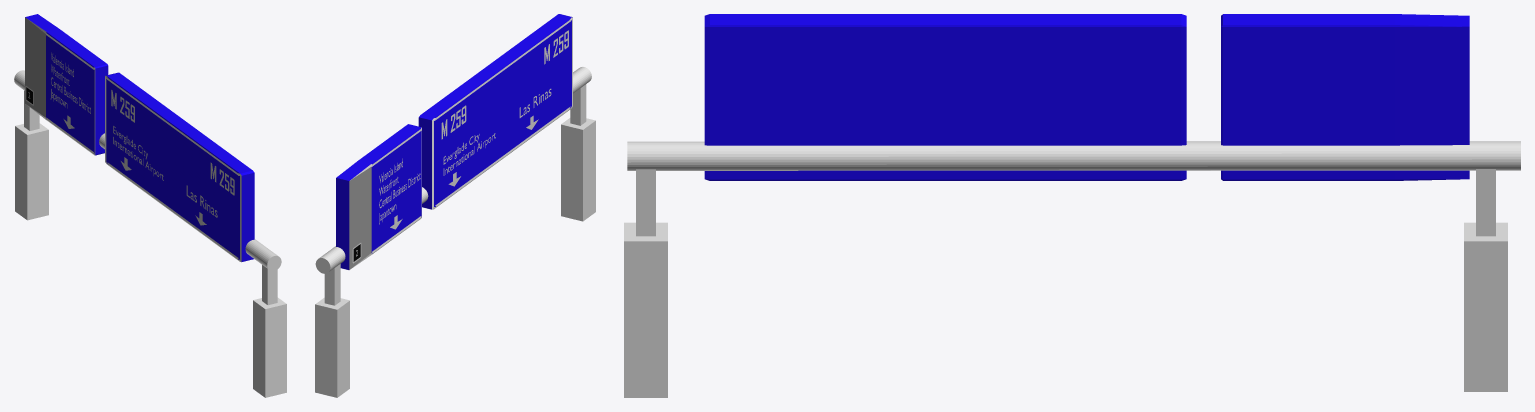
Rendered from UK_Motorway_gantry_3.fbx.
3 renders of one model, left to right at view 1: azimuth 30°, elevation 25°; view 2: azimuth 150°, elevation 25°; view 3: azimuth 270°, elevation 25°, orthographic. The views are drawn at different scales.
Visible parts, largest first — view 1: Cube.003, Cube.001, Cube.002, Cube, Cylinder, Text.001, Text.002, Text.005, Text.004; view 2: Cube.003, Cube.001, Cube.002, Cube, Cylinder, Text.001, Text.002, Text.004, Text.005; view 3: Cube.003, Cube.001, Cylinder, Cube.002, Cube.
Boxes of the visible parts, bbox=[...] form: Cube.003: bbox=[105, 72, 254, 262]; Cube.001: bbox=[25, 14, 108, 155]; Cube.002: bbox=[253, 265, 286, 397]; Cube: bbox=[15, 90, 48, 220]; Cylinder: bbox=[14, 70, 281, 270]; Text.001: bbox=[50, 52, 90, 113]; Text.002: bbox=[113, 126, 163, 180]; Text.005: bbox=[210, 162, 234, 195]; Text.004: bbox=[111, 90, 134, 122]; Cube.003: bbox=[418, 14, 572, 209]; Cube.001: bbox=[336, 124, 421, 269]; Cube.002: bbox=[561, 84, 595, 221]; Cube: bbox=[315, 264, 349, 397]; Cylinder: bbox=[315, 67, 591, 273]; Text.001: bbox=[379, 158, 420, 224]; Text.002: bbox=[443, 133, 495, 175]; Text.004: bbox=[441, 105, 466, 139]; Text.005: bbox=[544, 30, 568, 64]; Cube.003: bbox=[704, 14, 1186, 180]; Cube.001: bbox=[1221, 14, 1469, 180]; Cylinder: bbox=[627, 141, 1520, 170]; Cube.002: bbox=[624, 169, 667, 397]; Cube: bbox=[1464, 169, 1507, 391].
Bounding box in the file's own units: 6.66 × 55.12 × 123.
